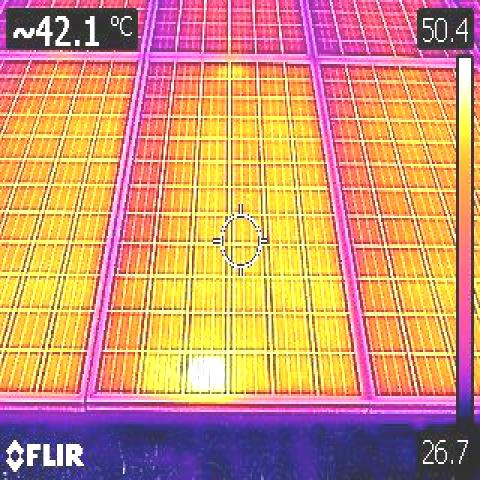fault: (184, 352, 224, 395)
